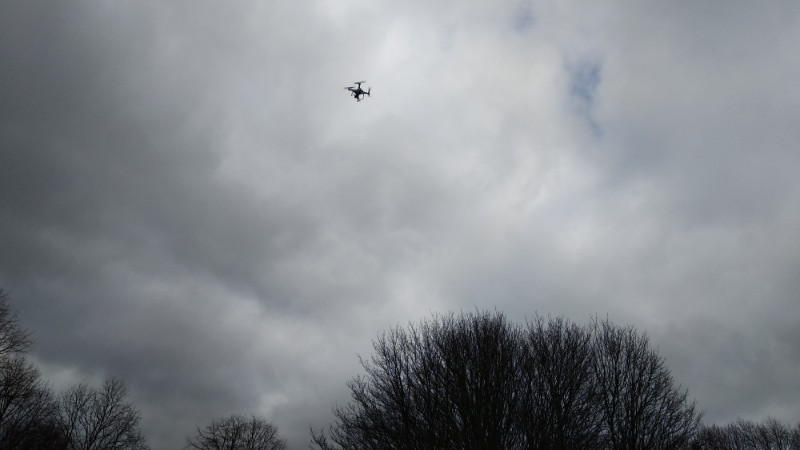drone: (344, 81, 375, 102)
